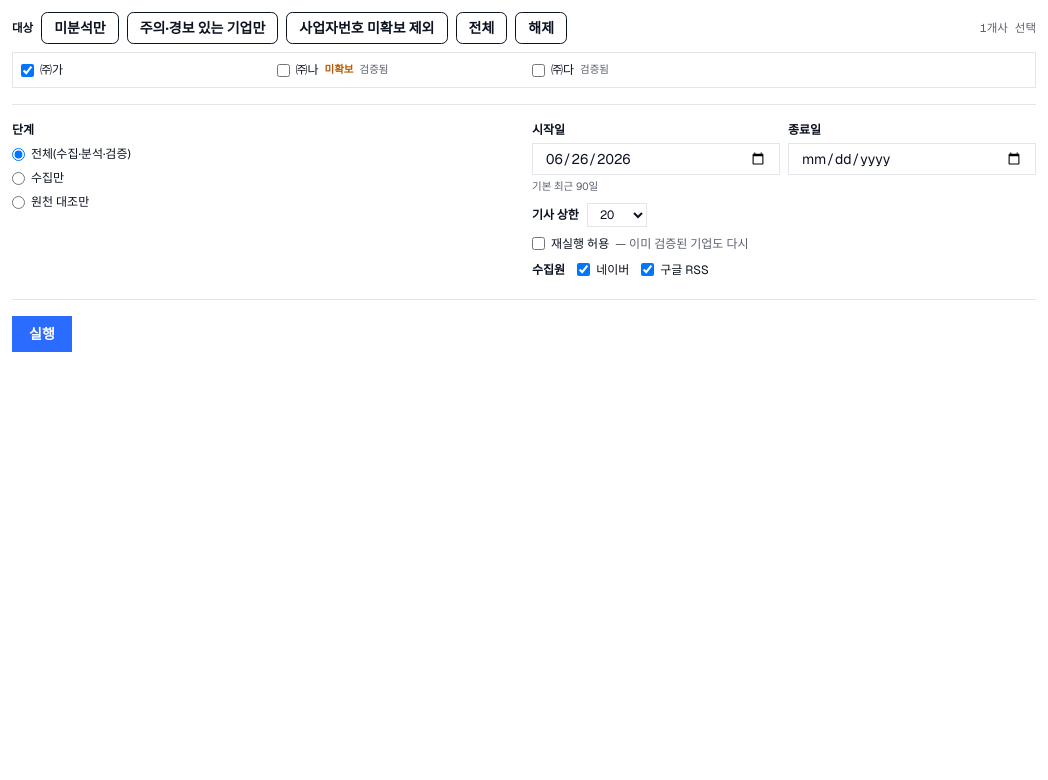
Test: BatchRunner › posts the options, then shows the stepper, per-company progress and log; the only primary action while running is 중단
The image size is (1048, 780).
Click the radio button labelled "수집만" at {"x": 18, "y": 178}, box [12,172,25,184]
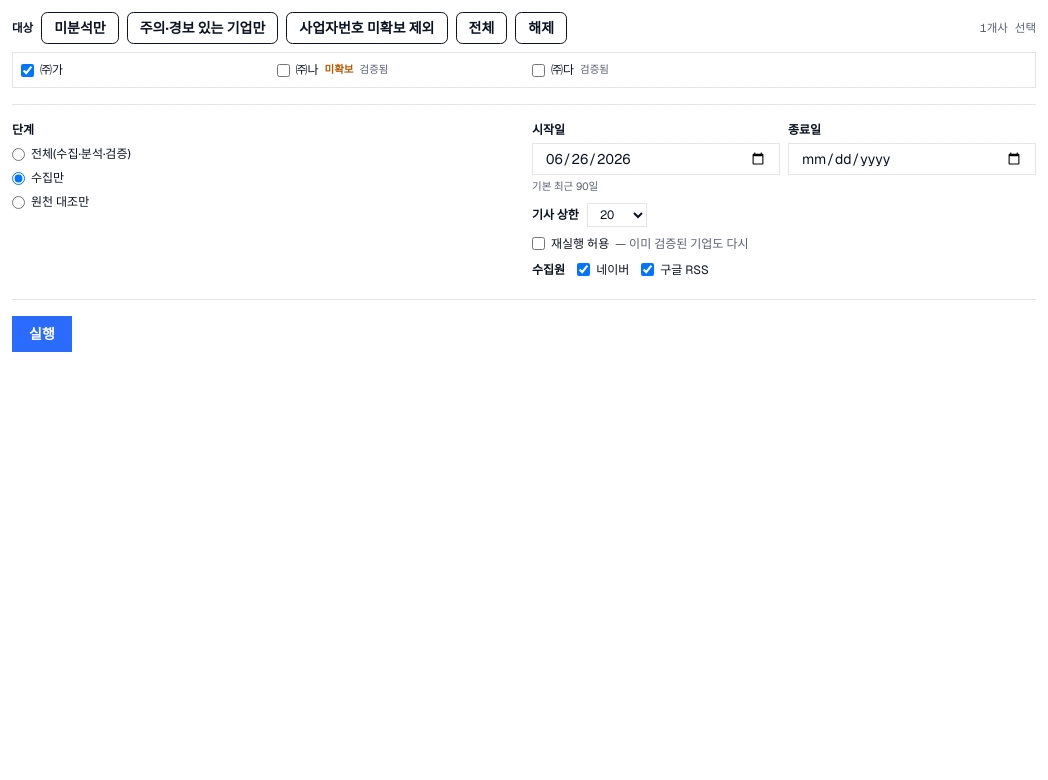
Select "50" in the dropdown labelled "기사 상한" at {"x": 617, "y": 215}, box [587,203,647,227]
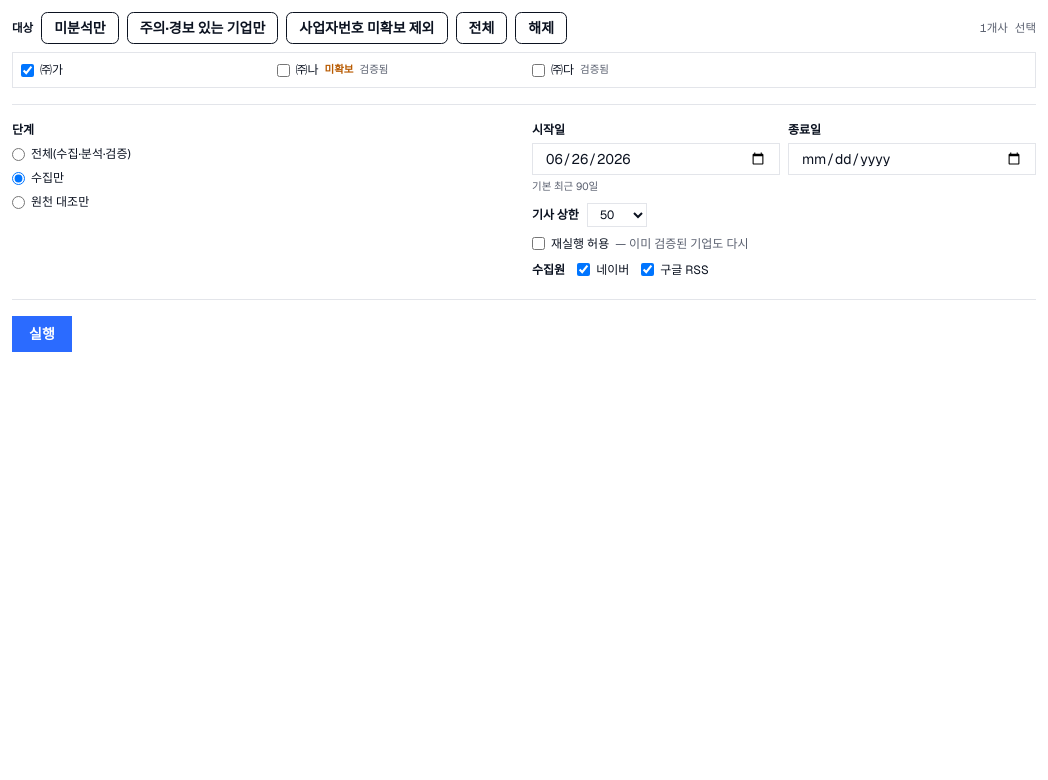
Click the checkbox labelled "재실행 허용" at {"x": 538, "y": 244}, box [532,237,545,250]
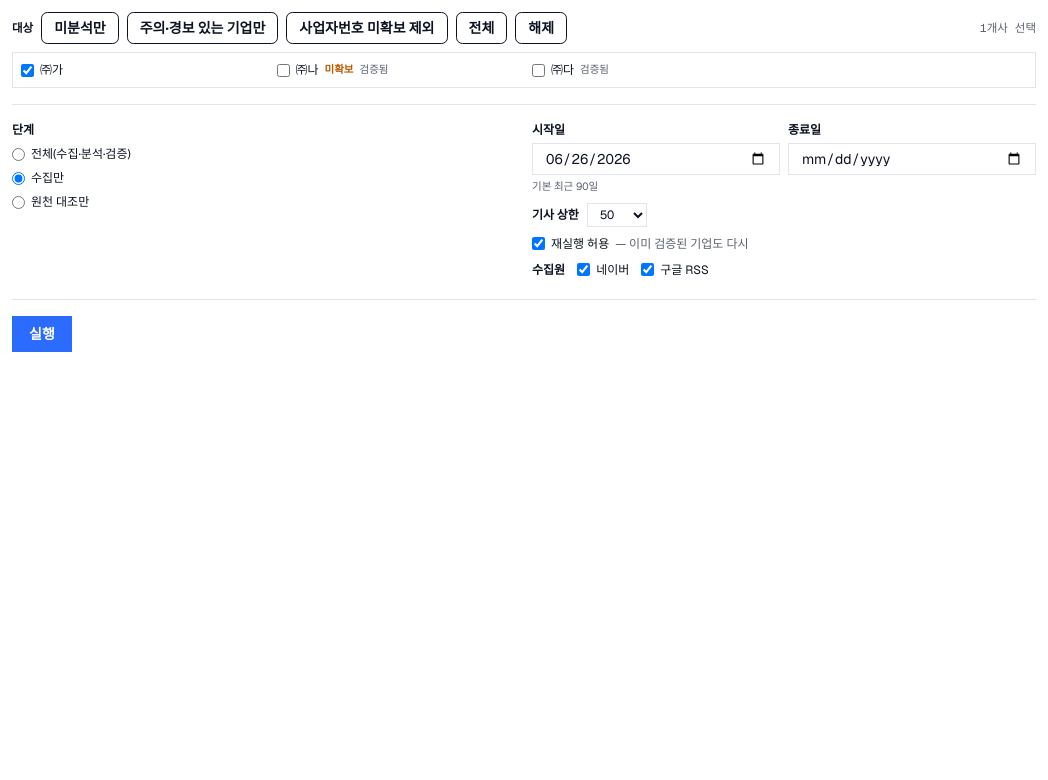
Click the button "실행" at {"x": 42, "y": 334}, box [12,316,72,352]
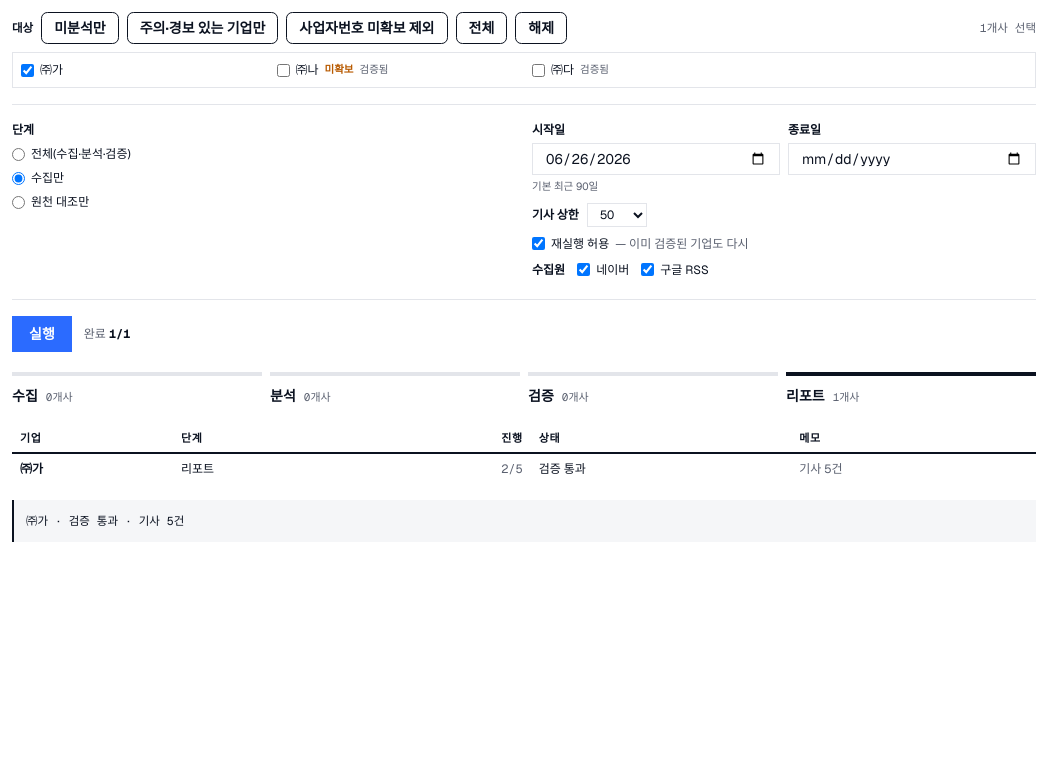
Expected: the list named "파이프라인 단계" is shown, [12,372,1036,408]
Expected: the list item "수집0개사" is shown, [12,372,262,408]
Expected: the list item "리포트1개사" is shown, [786,372,1036,408]
